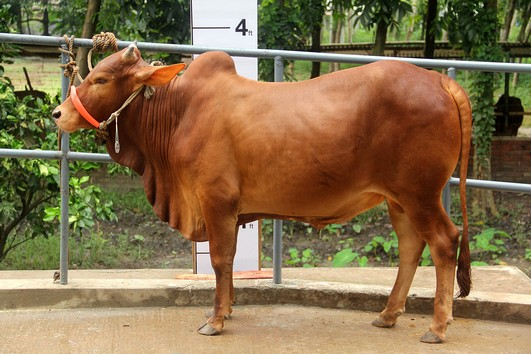cow: (45, 37, 477, 341)
